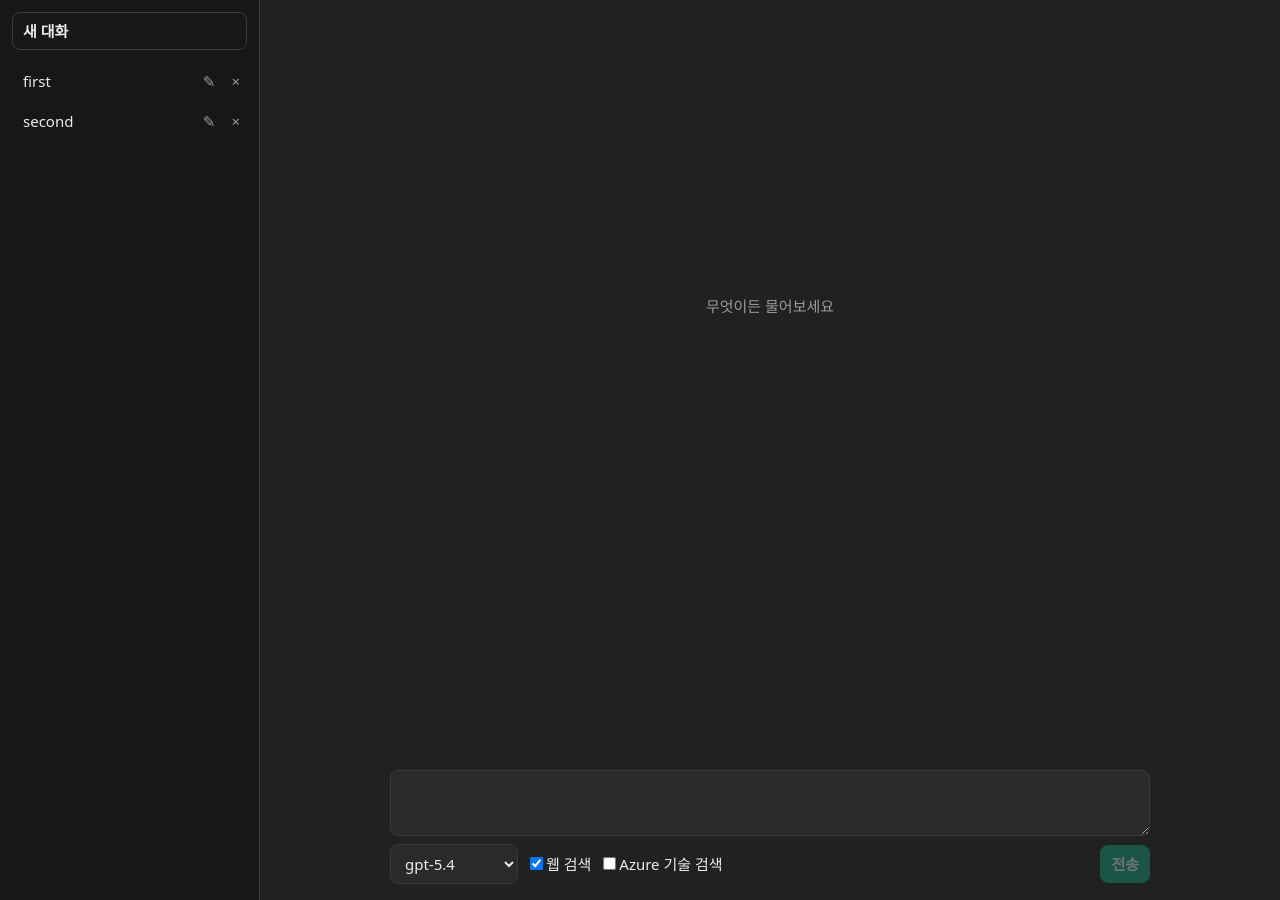
deletes a conversation and removes it from the sidebar
The image size is (1280, 900).
Expected: the button "first" is shown, [12,62,194,100]
Click the button named "삭제 first" at [236, 81], box [224,62,247,100]
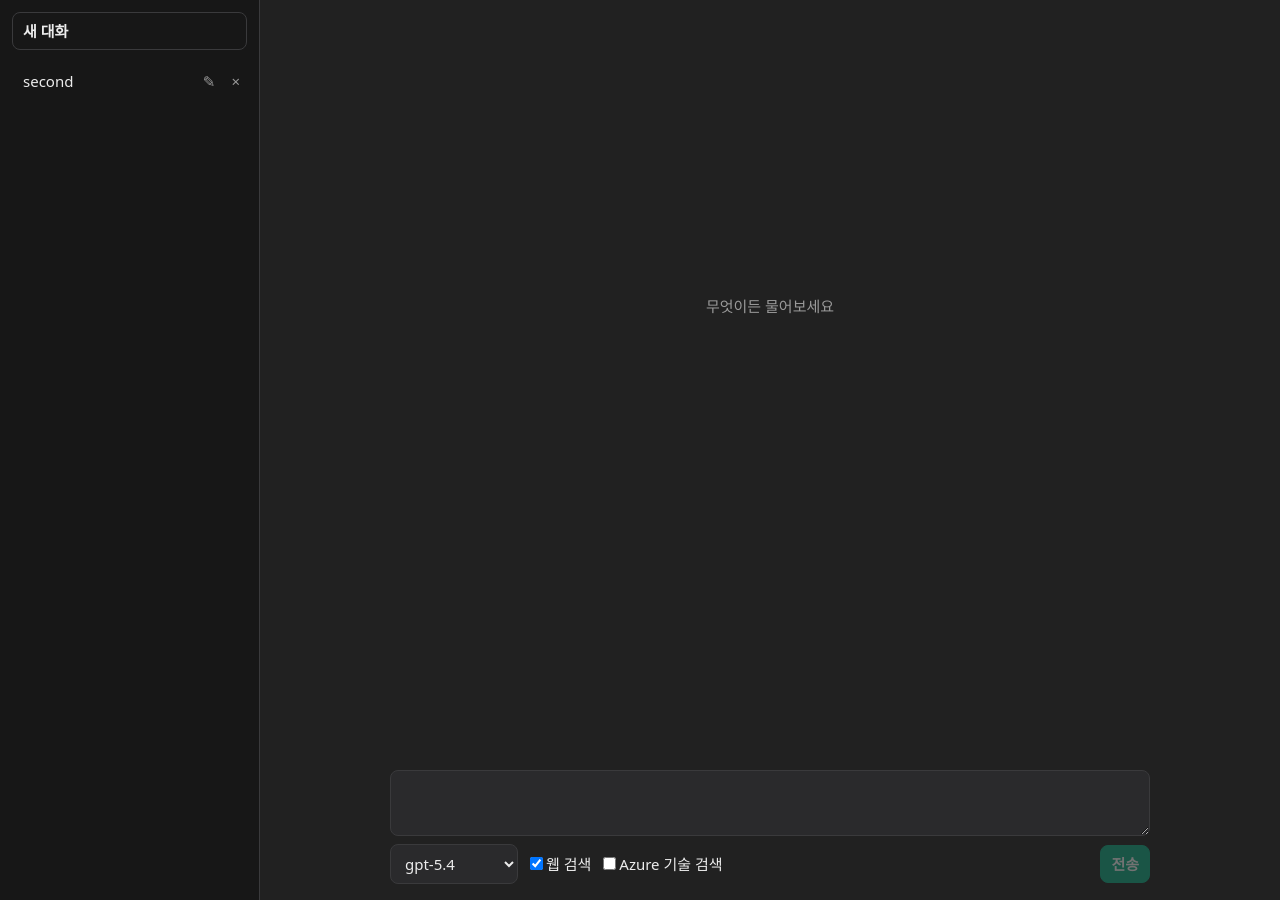
Expected: the button "first" is gone
